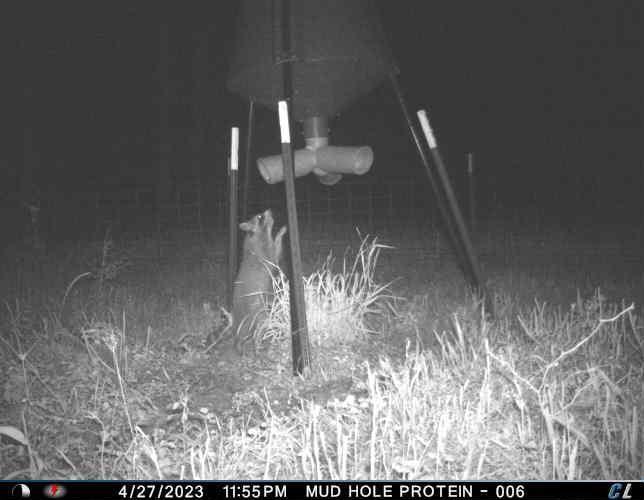Raccoon: (205, 208, 288, 349)
